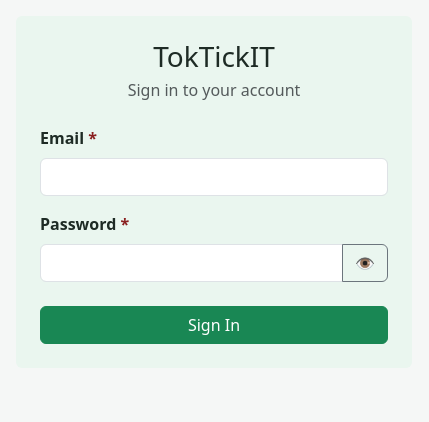
Test case: Login › UI-02 shows the generic error message on a mocked 401
Type "nobody@example.com" into the field labelled "Email *" at (214,177), box [40,158,388,196]
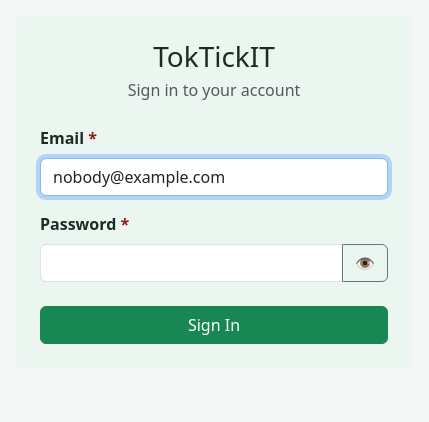
Type "wrong" into the password field labelled "Password *" at (192,263), box [40,244,343,282]
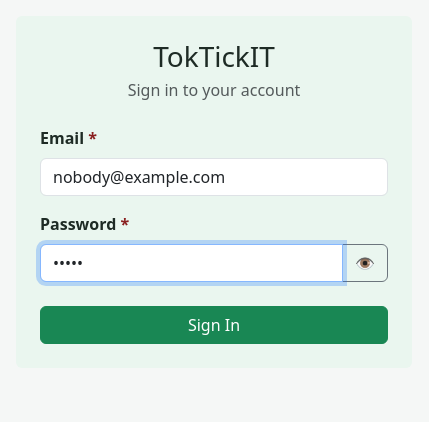
Click the button "Sign In" at (214,325), box [40,306,388,344]
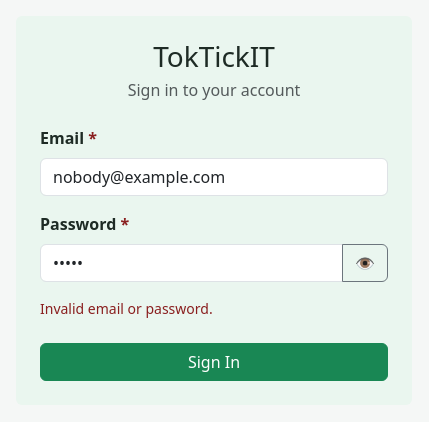
Result: the text "Invalid email or password." is shown at [40,299,213,318]
